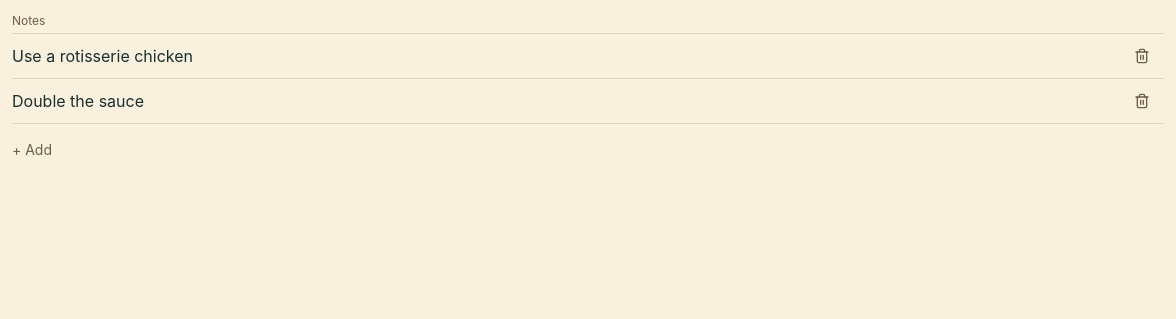
Test: NoteList › adds a note from + Add, at the end, without splitting on commas
Click the button with aria-label "Add a note" at (32, 150), box [12,128,52,172]
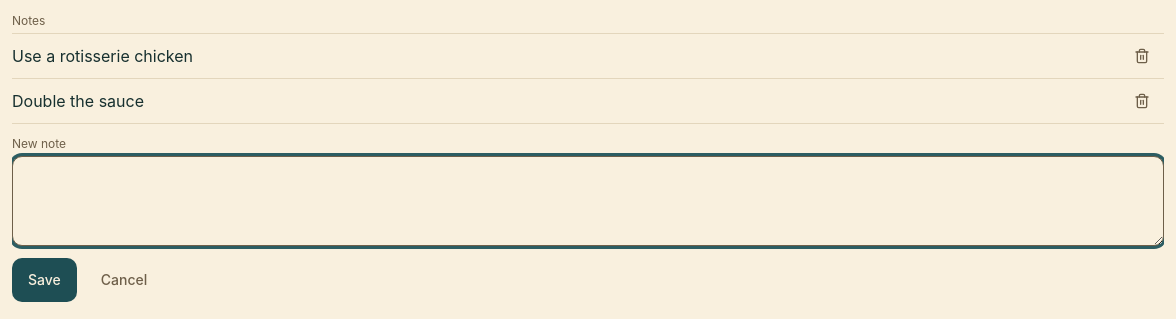
Type "Salt, then pepper" into the text box labelled "New note" at (588, 201), box [12,156,1164,246]
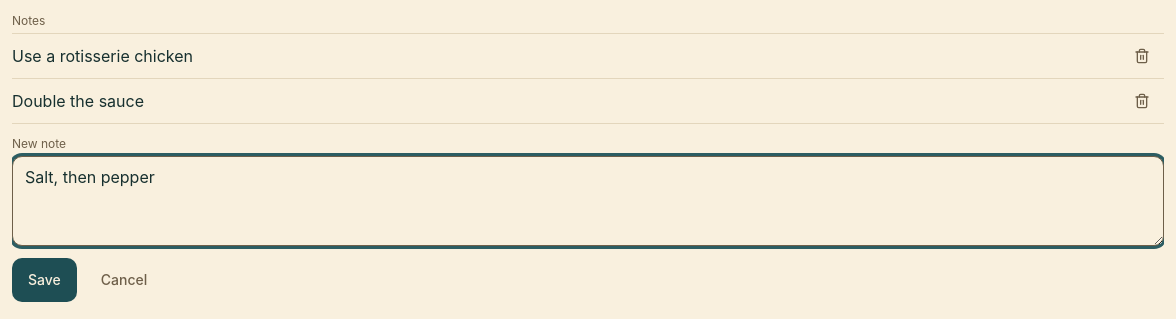
Click the button "Save" at (44, 280), box [12,258,77,302]
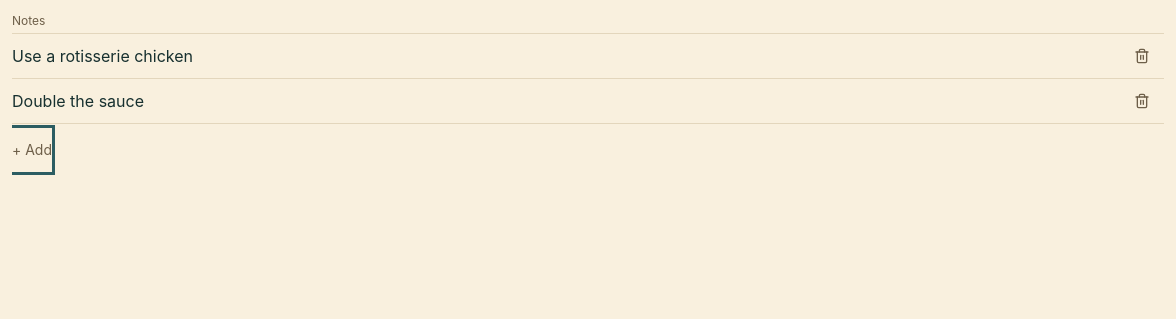
Now the label "New note" is gone
